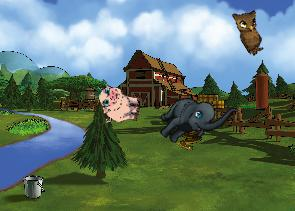elephant: (151, 74, 239, 163)
owl: (227, 3, 275, 57)
pig: (97, 83, 142, 125)
